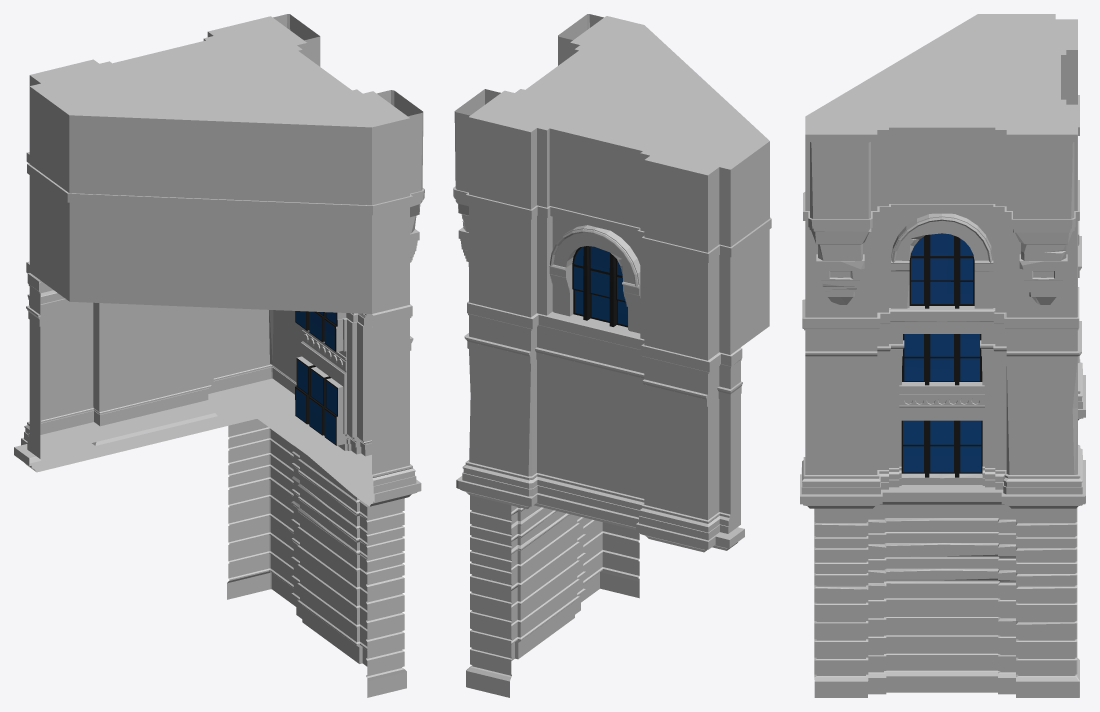
Rendered from Building_Brick01.fbx.
3 renders of one model, left to right at view 1: azimuth 30°, elevation 25°; view 2: azimuth 150°, elevation 25°; view 3: azimuth 270°, elevation 25°, orthographic. The views are drawn at different scales.
Parts seen in each view (by area): view 1: SM_City_Building_Brick_01b.mo; view 2: SM_City_Building_Brick_01b.mo; view 3: SM_City_Building_Brick_01b.mo.
Boxes of the visible parts, x1,y1,x2,y2 form: SM_City_Building_Brick_01b.mo: [14, 14, 424, 697]; SM_City_Building_Brick_01b.mo: [453, 14, 771, 697]; SM_City_Building_Brick_01b.mo: [800, 14, 1085, 697].
Bounding box in the file's own units: 927 × 1828 × 842.
